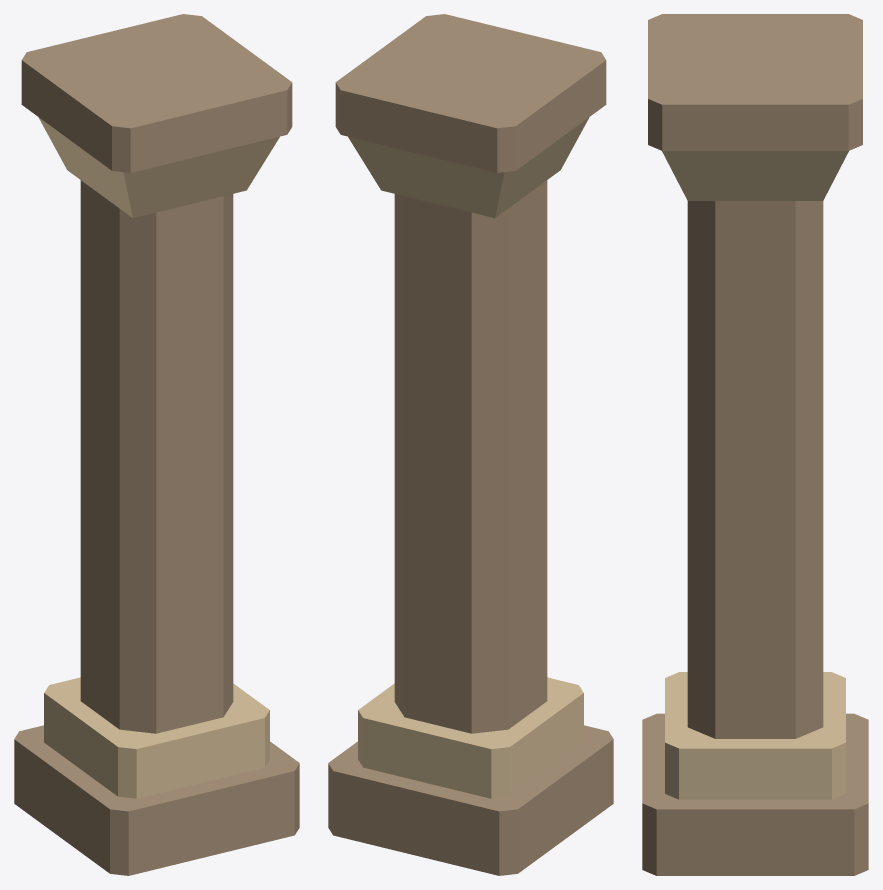
The model's file is arcade_column.glb.
The picture shows the model from 3 angles, left to right: view 1: azimuth 30°, elevation 25°; view 2: azimuth 150°, elevation 25°; view 3: azimuth 270°, elevation 25°; orthographic projection. The views are drawn at different scales.
Parts seen in each view (by area): view 1: Arcade column; view 2: Arcade column; view 3: Arcade column.
Part boxes in pixels (x1=…): Arcade column: x1=14, y1=14, x2=299, y2=875; Arcade column: x1=328, y1=14, x2=613, y2=875; Arcade column: x1=642, y1=14, x2=868, y2=875.
Bounding box in the file's own units: 0.4 × 1.5 × 0.4.
